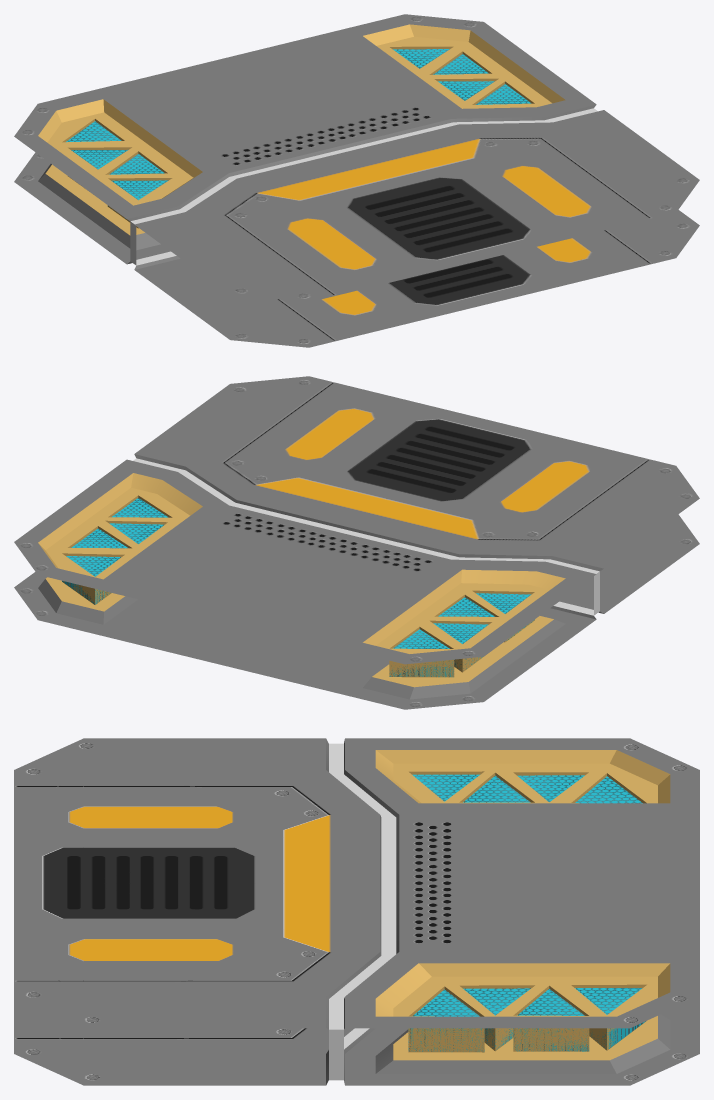
The model's file is Lift2.fbx.
3 renders of one model, top to bottom at view 1: azimuth 30°, elevation 25°; view 2: azimuth 150°, elevation 25°; view 3: azimuth 270°, elevation 25°, orthographic. The views are drawn at different scales.
Parts seen in each view (by area): view 1: Cube, Cube.003; view 2: Cube, Cube.003; view 3: Cube, Cube.003.
Part boxes in pixels (<box>): Cube: <box>14,14,699,347</box>; Cube.003: <box>66,49,531,218</box>; Cube: <box>14,376,699,709</box>; Cube.003: <box>62,498,534,677</box>; Cube: <box>14,738,699,1085</box>; Cube.003: <box>408,774,645,1051</box>.
Bounding box in the file's own units: 200 × 18.46 × 200.
4 materials, 2 textured.
